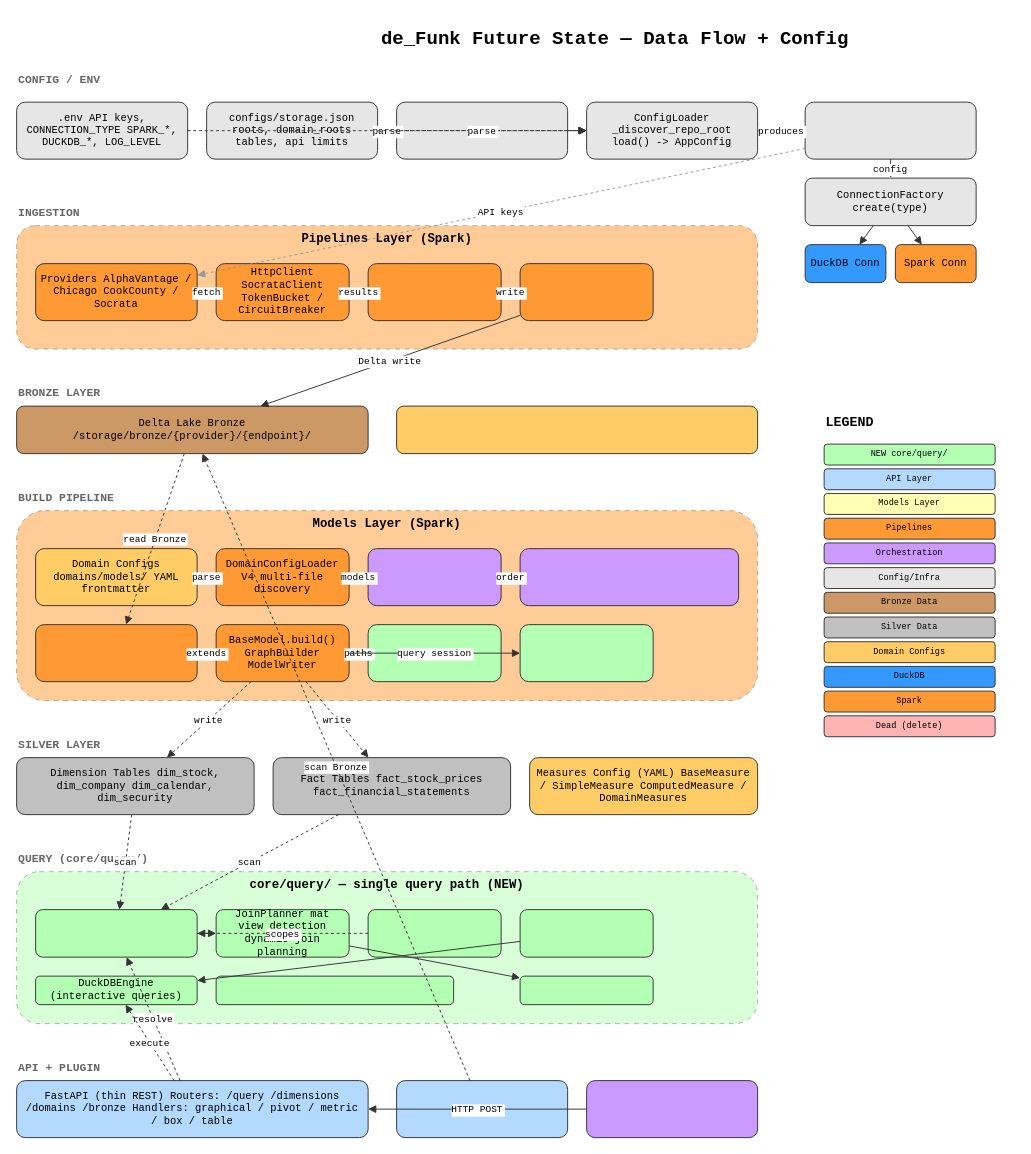
Image size: 1031x1154. Some labels were removed from this diagram. The centre of each missing label's shape, as x and y in pixels:
"Aggregator centralized GROUP BY Spark + DuckDB backends" goes at point (586, 933).
"AppConfig ConnectionConfig StorageConfig / APIConfig" goes at point (890, 130).
"BronzeResolver raw API endpoint data /bronze/query" goes at point (482, 1109).
"BronzeSink StreamingWriter Delta (ACID)" goes at point (586, 292).
"Builders Temporal -> Securities -> Stocks -> Company -> Forecast" goes at point (116, 653).
"configs/run_config.json schedule, date ranges model params" goes at point (482, 130).
"DependencyGraph topological sort build ordering" goes at point (434, 577).
"Endpoint Markdown Configs domains/Data Sources/Endpoints/*.md" goes at point (577, 429).
"FieldResolver frontmatter-scoped domains BFS join via graph edges" goes at point (116, 933).
"FilterEngine apply_filters (Spark/DuckDB) convert_date_to_date_id" goes at point (434, 933).
"IngestorEngine BatchProgress PipelineStats" goes at point (434, 292).
"Obsidian Plugin Event Loop + State Store Renderers" goes at point (672, 1109).
"PipelineScheduler daily_price_ingestion daily_silver_rebuild weekly_forecasts" goes at point (629, 577).
"QuerySession (from core/query/) replaces UniversalSession" goes at point (586, 653).
"QuerySession (replaces UniversalSession)" goes at point (334, 990).
"StorageRouter (from core/query/)" goes at point (434, 653).
"StorageRouter (paths)" goes at point (586, 990).
